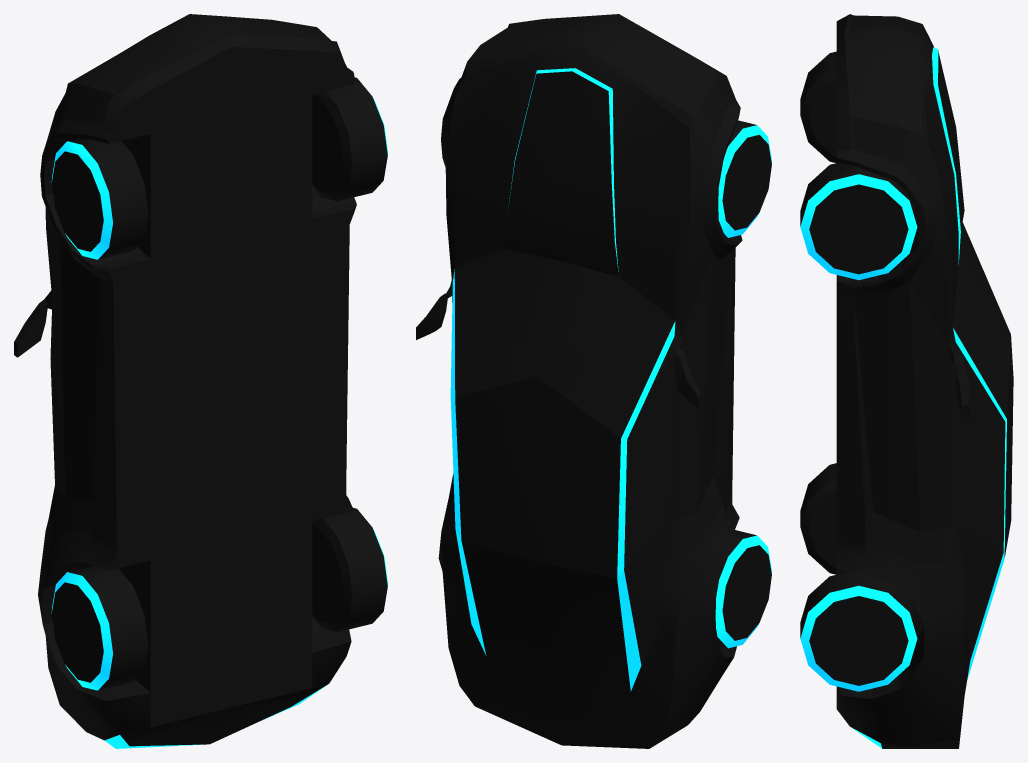
The model's file is CarTraffic.FBX.
3 views of the same model, side by side, from view 1: azimuth 30°, elevation 25°; view 2: azimuth 150°, elevation 25°; view 3: azimuth 270°, elevation 25° (orthographic). The views are drawn at different scales.
Parts seen in each view (by area): view 1: CC_ME_Body_R4; view 2: CC_ME_Body_R4; view 3: CC_ME_Body_R4.
Part boxes in pixels (left/top/right/bottom): CC_ME_Body_R4: left=14, top=14, right=387, bottom=748; CC_ME_Body_R4: left=416, top=14, right=771, bottom=748; CC_ME_Body_R4: left=800, top=14, right=1013, bottom=748.
Bounding box in the file's own units: 5.14 × 3.35 × 12.05.
